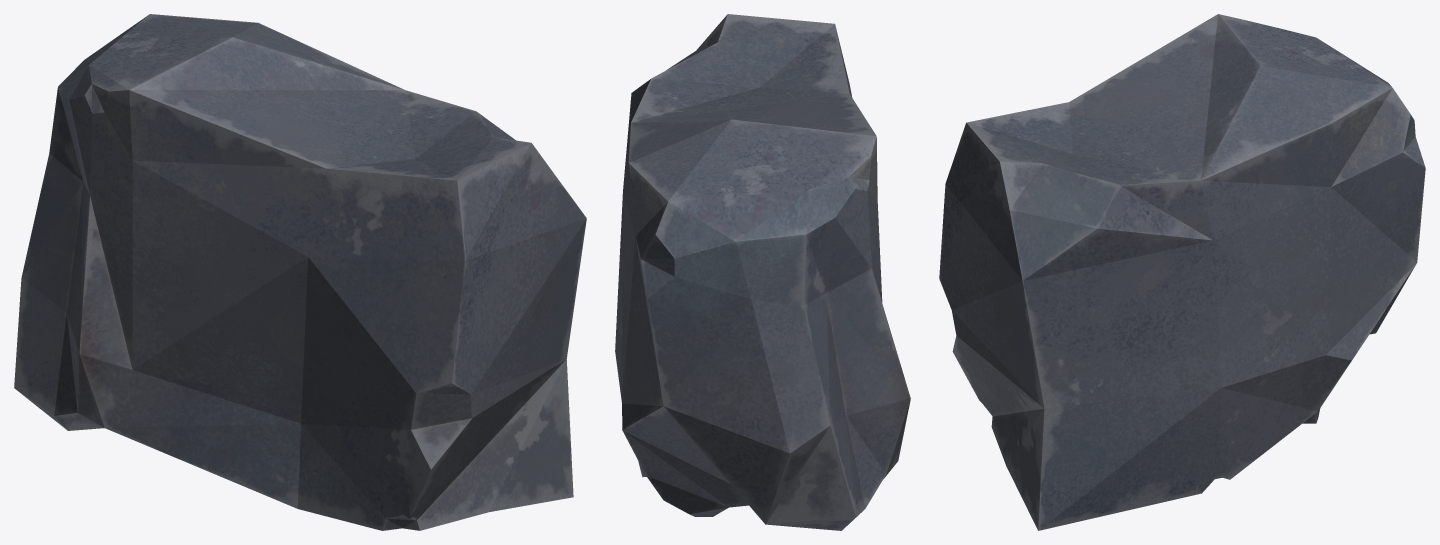
The model's file is Rock.fbx.
The picture shows the model from 3 angles, left to right: view 1: azimuth 30°, elevation 25°; view 2: azimuth 150°, elevation 25°; view 3: azimuth 270°, elevation 25°; orthographic projection. The views are drawn at different scales.
Visible parts, largest first — view 1: stylized_rock_65; view 2: stylized_rock_65; view 3: stylized_rock_65.
Part boxes in pixels (x1,y1,x2,y2): stylized_rock_65: [14, 14, 586, 530]; stylized_rock_65: [615, 14, 910, 530]; stylized_rock_65: [939, 14, 1425, 530].
Size of the model in its own units: 218 by 223 by 264.
